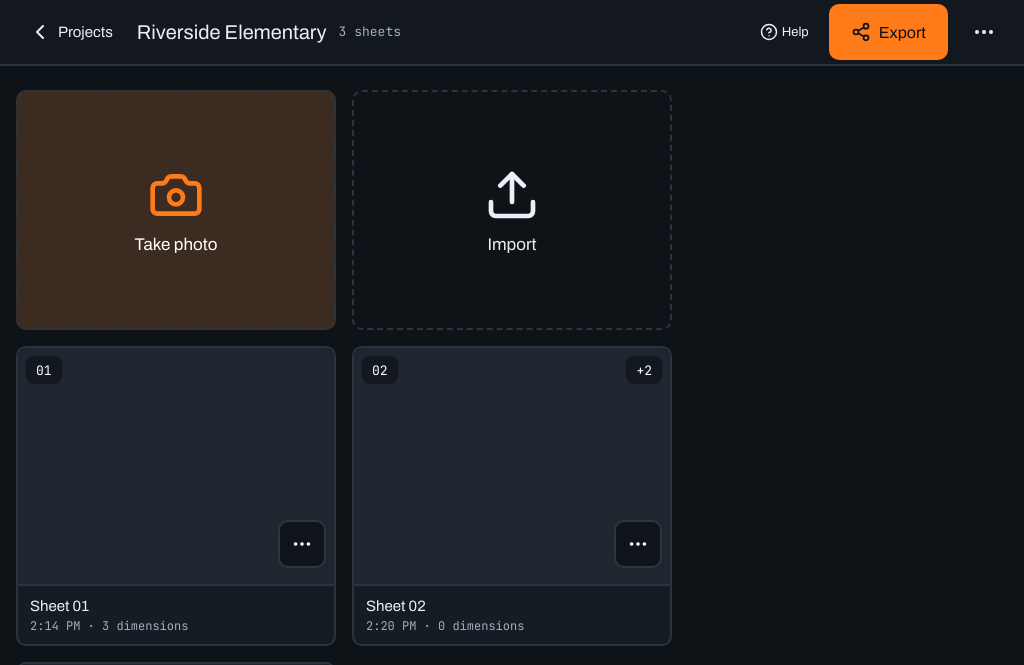
rename — inline on the card, honest about failure › opens a focused, selected field seeded with the real title
This screenshot has width=1024, height=665.
Click the button with test id "sheet-card-menu-s1" at [302, 544], box [278, 520, 326, 568]
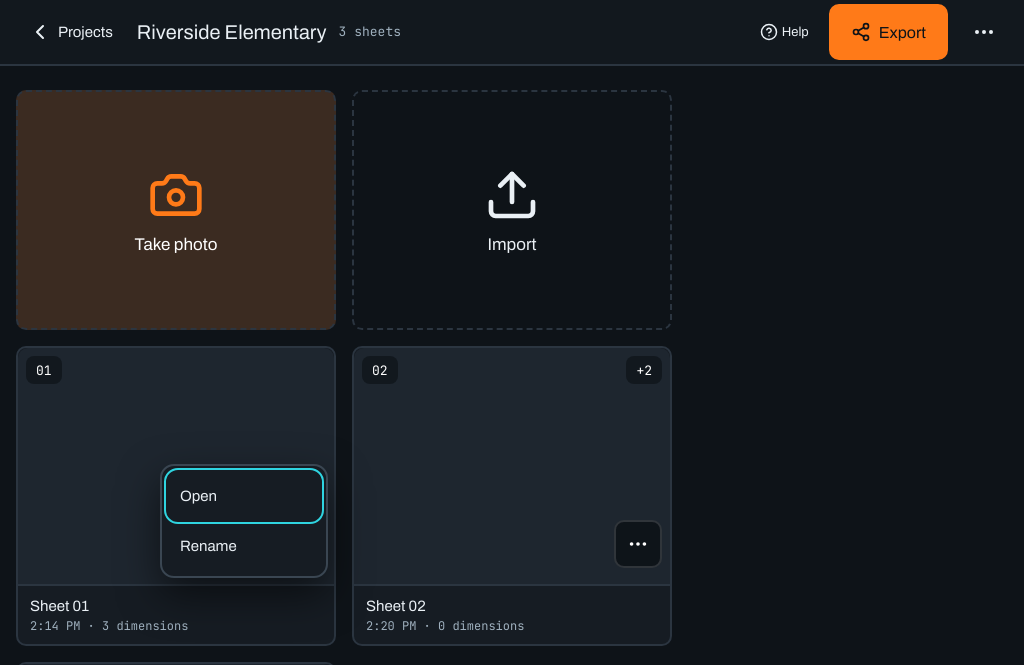
Click the menu item "Rename" at [244, 546], box [168, 522, 320, 570]
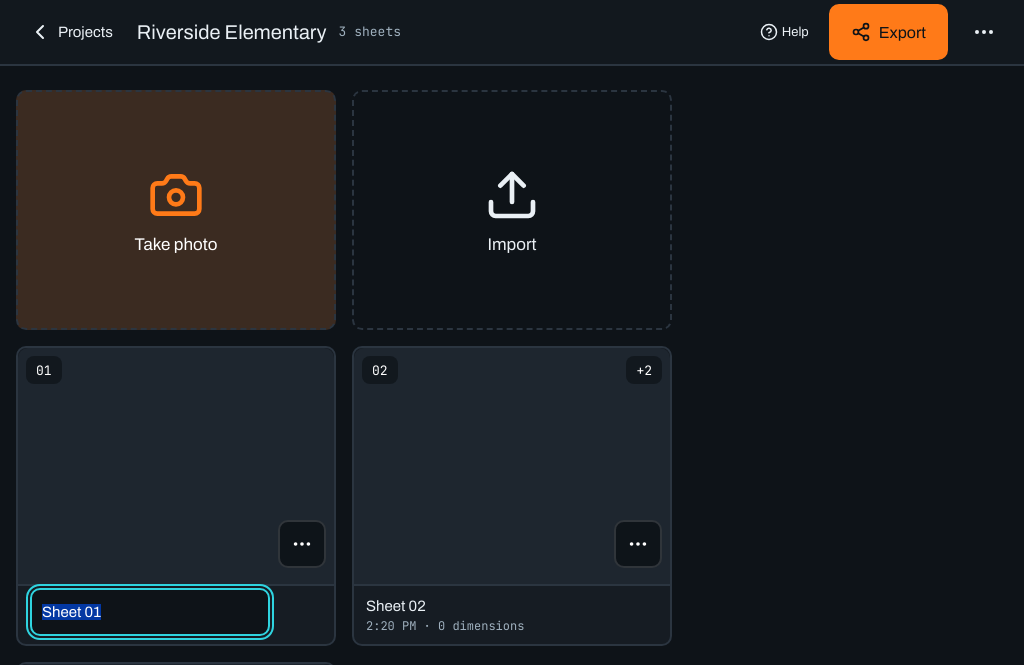
Result: the field named "Sheet name" holds "Sheet 01" at [30, 588, 270, 636]
